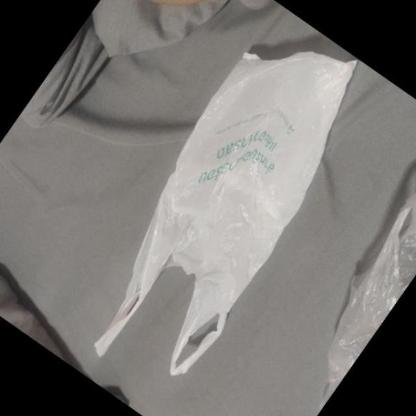Plastic Bag: (94, 50, 358, 378)
